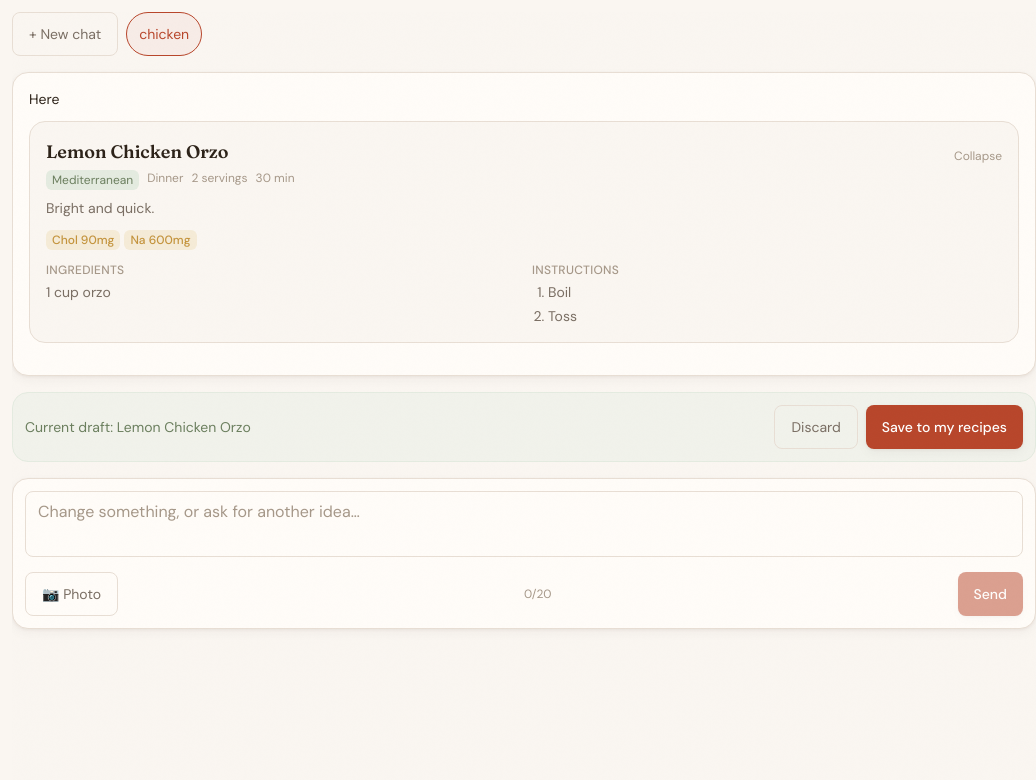
Test case: RecipeGenerator › discards a chat and drops it from the drafts strip
The width and height of the screenshot is (1036, 780).
Expected: the button "chicken" is shown, [126,12,202,56]
Click the button "Discard": (816, 427) [774,405,858,449]
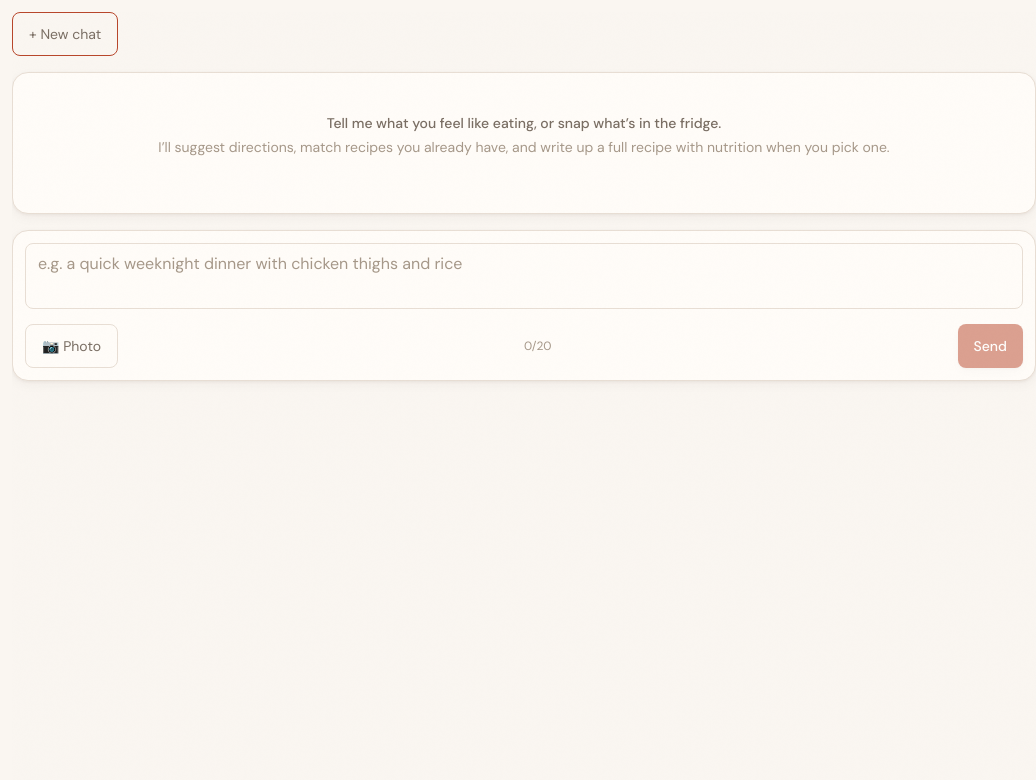
Expected: the text "Tell me what you feel like eating" is shown, [327,114,721,132]
